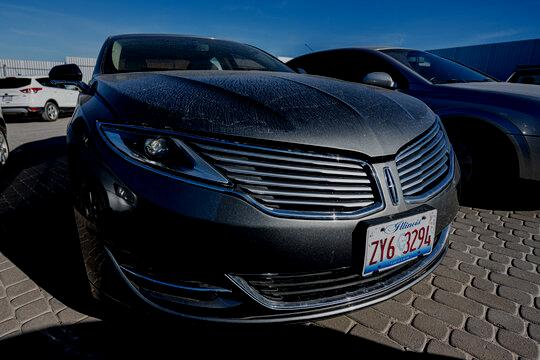lincoln: (377, 160, 405, 213)
